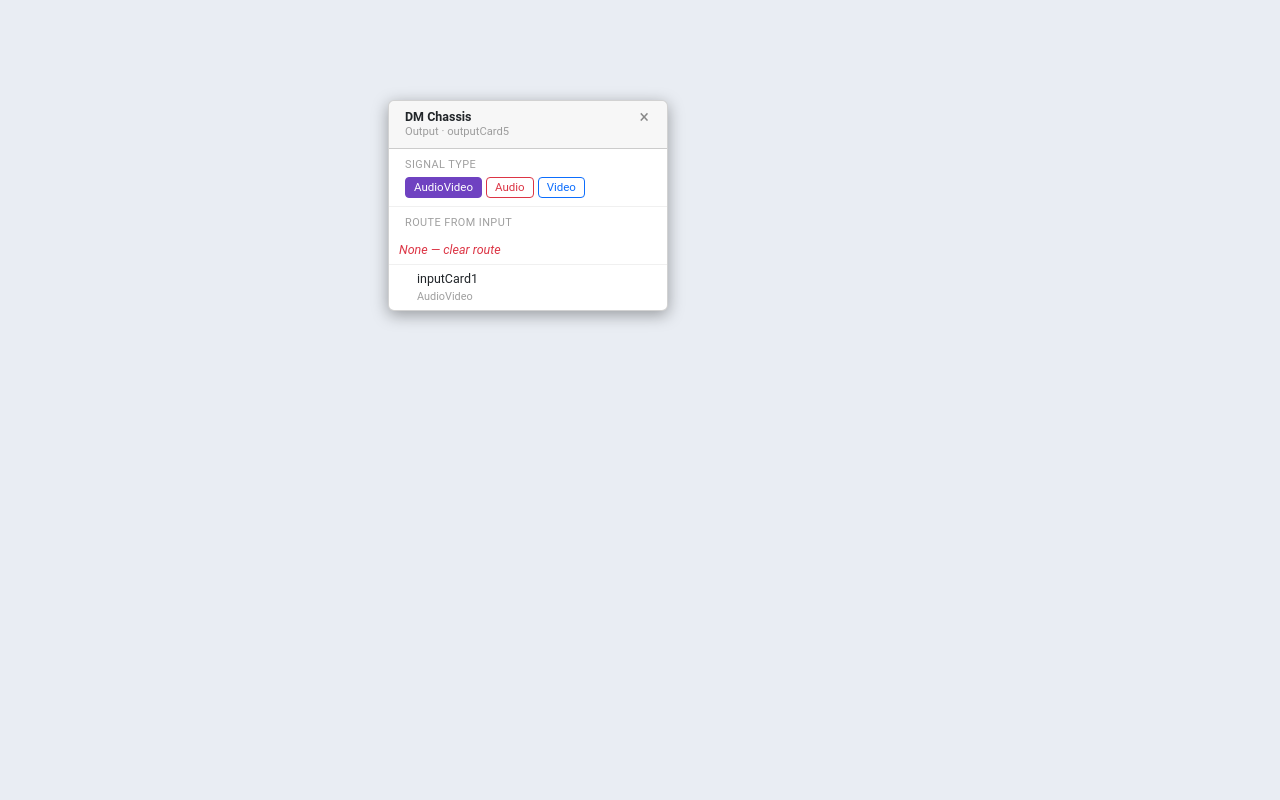
Test: midpoint routing › reveals a breakaway-only input once the type is narrowed
Click the button "Video". click: (561, 188)
box: [538, 177, 585, 198]
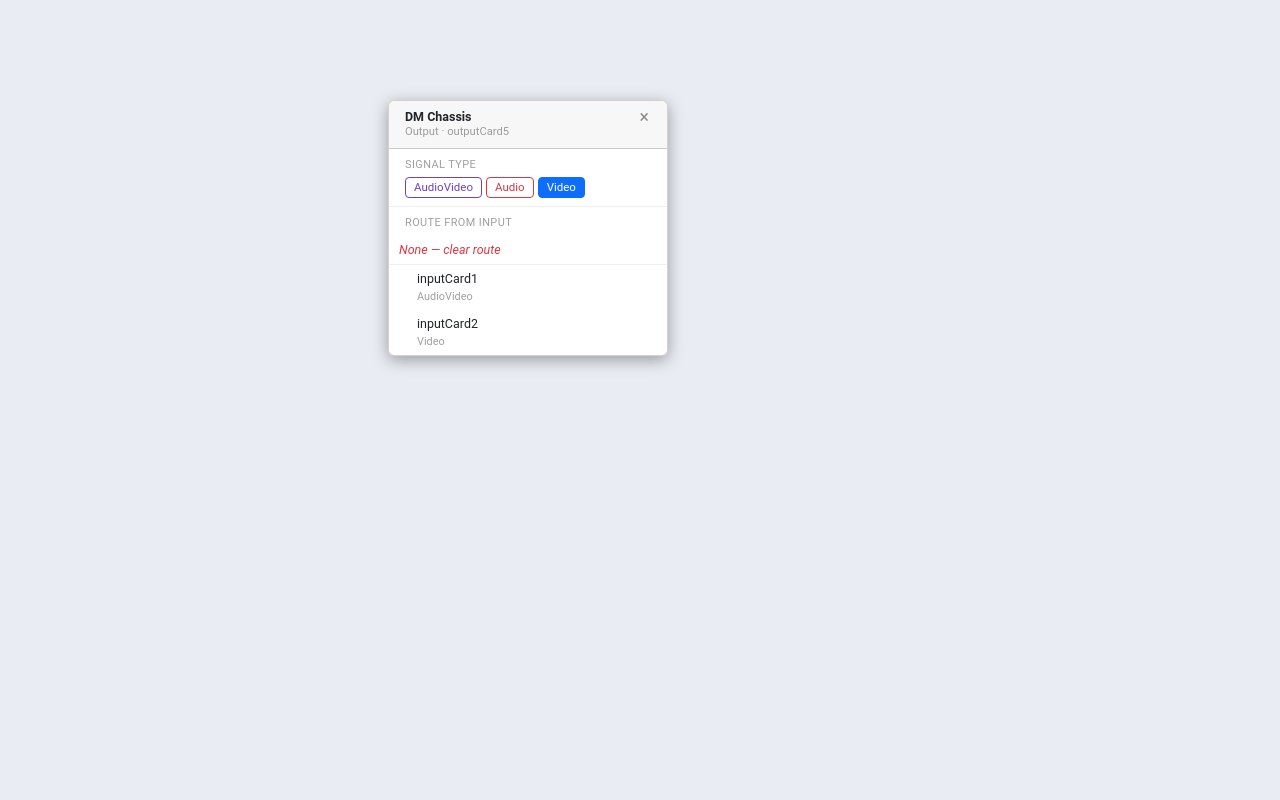
Expected: the button "inputCard2 Video" is shown, [389, 310, 667, 355]
